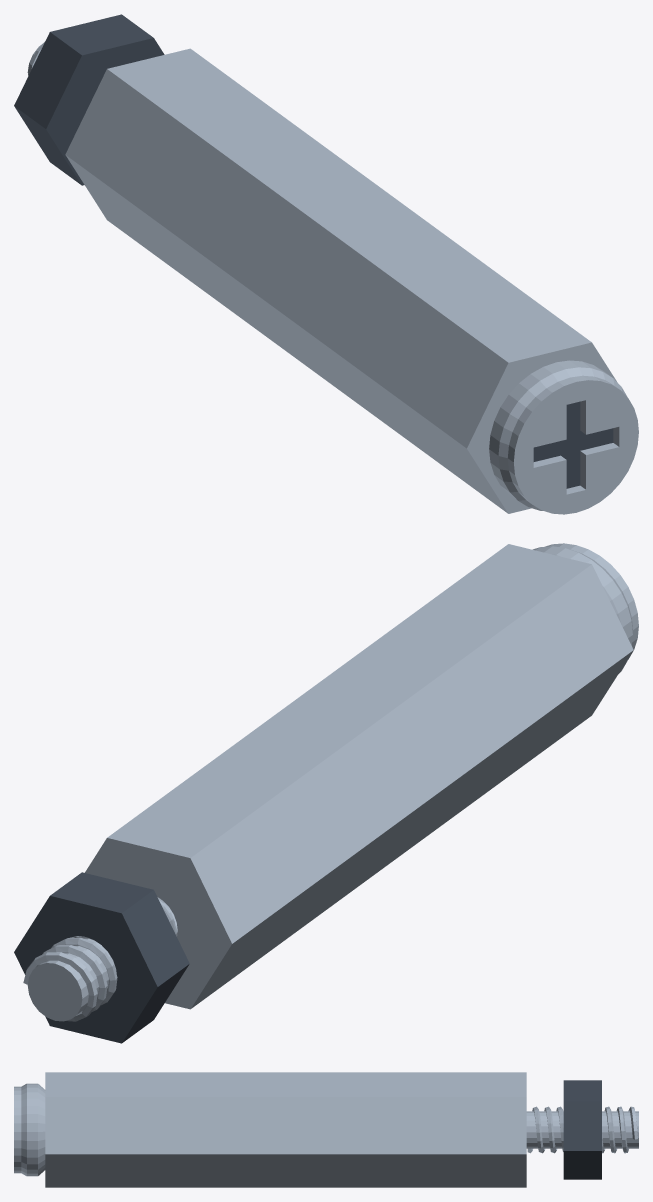
File: center_standoff.obj
The picture shows the model from 3 angles, top to bottom: view 1: azimuth 30°, elevation 25°; view 2: azimuth 150°, elevation 25°; view 3: azimuth 270°, elevation 25°; orthographic projection. The views are drawn at different scales.
Parts seen in each view (by area): view 1: center_standoff; view 2: center_standoff; view 3: center_standoff.
Part boxes in pixels (x1=…): center_standoff: x1=14, y1=14, x2=638, y2=514; center_standoff: x1=14, y1=543, x2=638, y2=1043; center_standoff: x1=14, y1=1072, x2=638, y2=1187.
Bounding box in the file's own units: 0.3697 × 0.3202 × 2.
